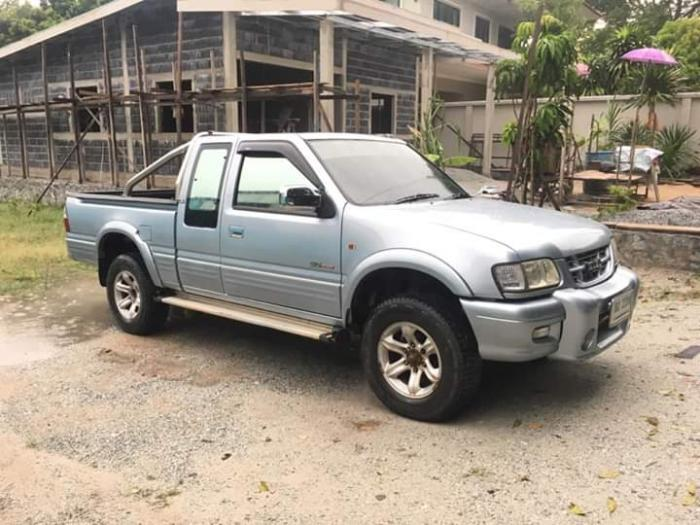pickup: (60, 128, 643, 424)
